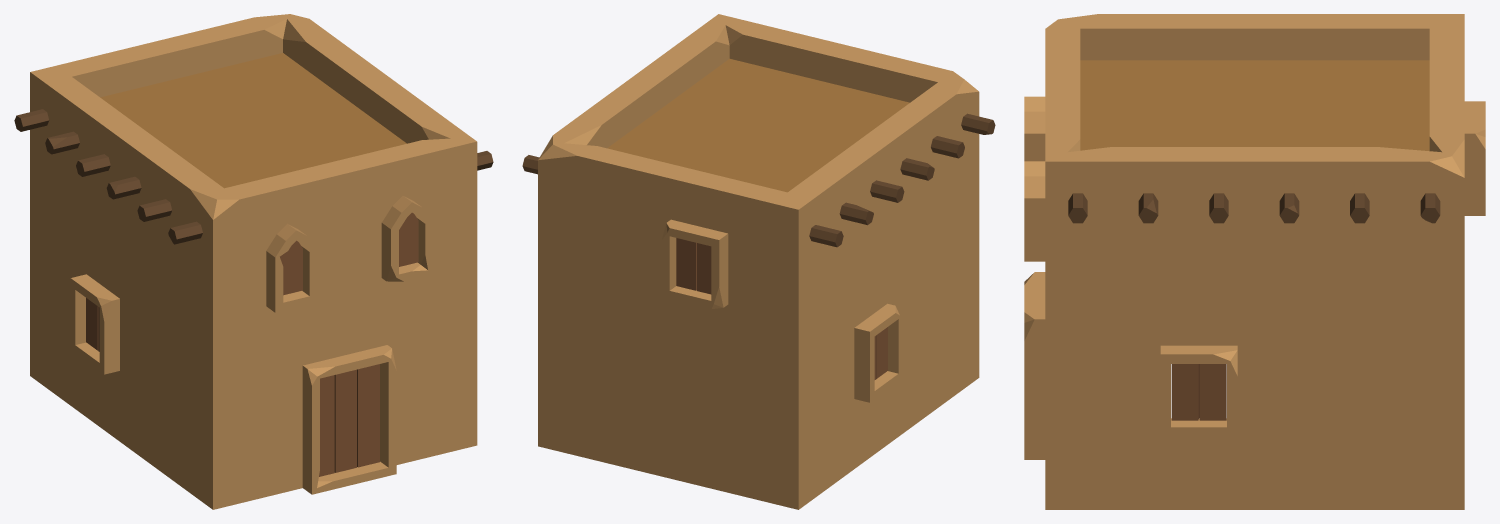
Rendered from egypt-house-egypt-small.glb.
3 renders of one model, left to right at view 1: azimuth 30°, elevation 25°; view 2: azimuth 150°, elevation 25°; view 3: azimuth 270°, elevation 25°, orthographic. The views are drawn at different scales.
Visible parts, largest first — view 1: house-egypt-small; view 2: house-egypt-small; view 3: house-egypt-small.
Boxes of the visible parts, x1,y1,x2,y2 form: house-egypt-small: (14, 14, 493, 509); house-egypt-small: (522, 14, 995, 509); house-egypt-small: (1024, 14, 1485, 509).
Bounding box in the file's own units: 6 × 5.5 × 6.6.
